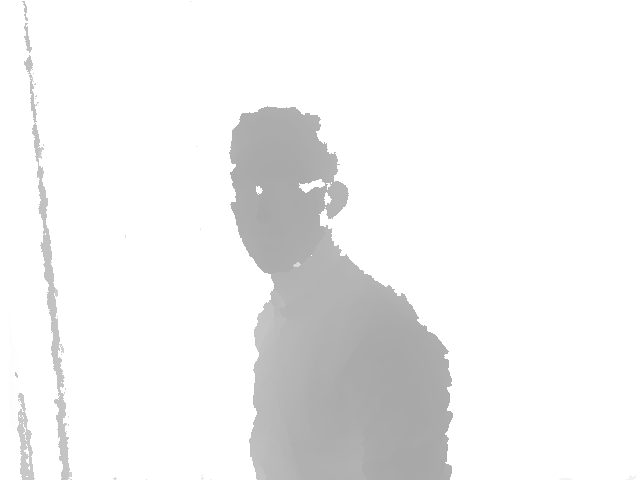head: (228, 106, 349, 276)
person: (228, 106, 457, 480)
